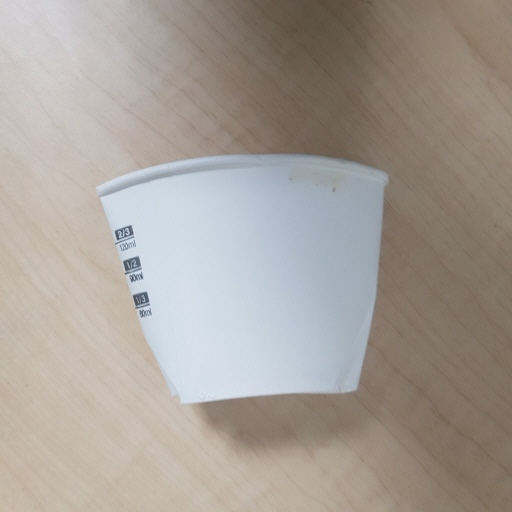Paper_1: (91, 147, 395, 401)
